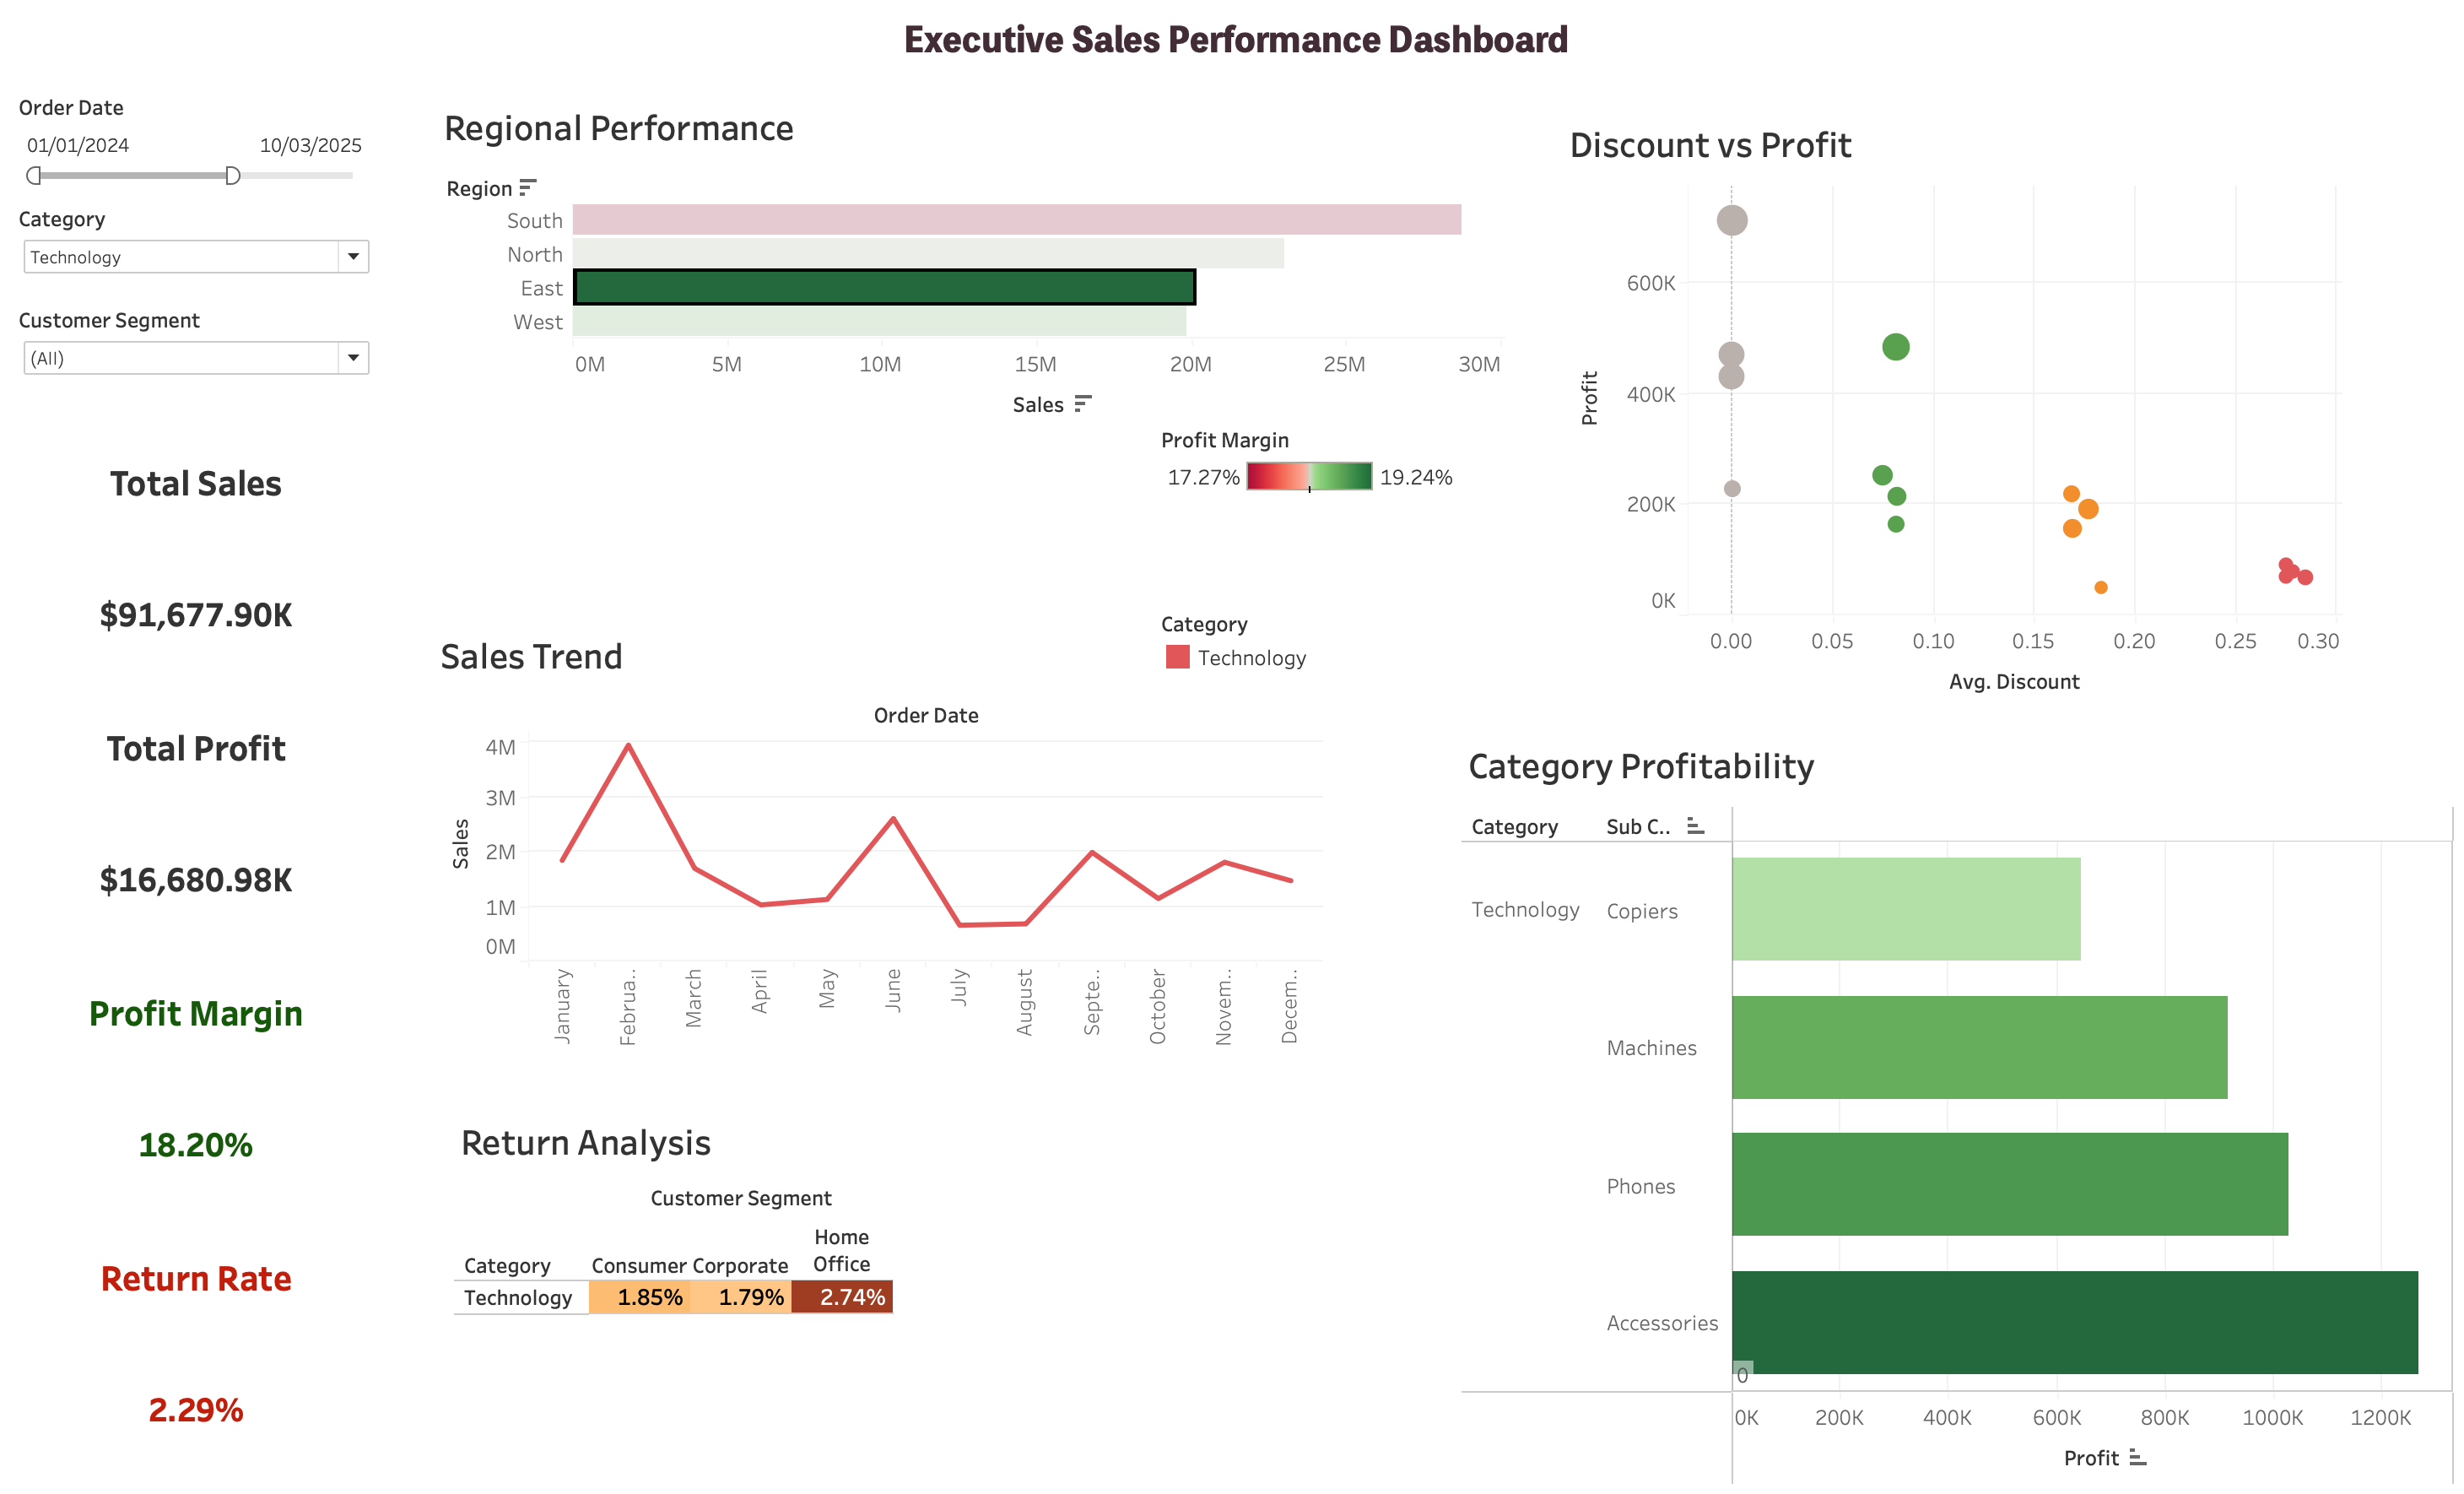

The dashboard page shown, as its layout file describes it:
{"tool":"tableau","page":{"name":"Executive Dashboard ","canvas":[1000,1000],"units":"permille","ordinal":0},"visuals":[{"type":"title","box":[5.4,9,989.1,36]},{"type":"filter","title":"Sales trend view","param":"[federated.0es24wj1n8u6ep0zlp9on0qtiqck].[none:order_date:qk]","box":[6.3,58.2,148.8,74.2]},{"type":"worksheet","title":"Regional performance view","mark":"Bar","rows":["region"],"cols":["sales"],"box":[177.7,64.7,430.3,274.3]},{"type":"worksheet","title":"Discount vs profit view","mark":"Circle","rows":["profit"],"cols":["discount"],"box":[631.5,76.3,314.2,395.9]},{"type":"filter","title":"Category profitability view","param":"[federated.0es24wj1n8u6ep0zlp9on0qtiqck].[none:category:nk]","box":[6.3,132.4,148.8,67.5]},{"type":"filter","title":"Return analysis view","param":"[federated.0es24wj1n8u6ep0zlp9on0qtiqck].[none:customer_segment:nk]","box":[6.3,199.9,148.8,97.9]},{"type":"legend","title":"Regional performance view","param":"[federated.0es24wj1n8u6ep0zlp9on0qtiqck].[usr:Calculation_6818774942461952:qk]","box":[469.3,284.6,121.1,68.6]},{"type":"worksheet","title":"Total sales","mark":"Automatic","box":[6.3,297.8,148.8,176.5]},{"type":"legend","title":"Sales trend view","param":"[federated.0es24wj1n8u6ep0zlp9on0qtiqck].[none:category:nk]","box":[469.3,407.5,96.1,103.5]},{"type":"worksheet","title":"Sales trend view","mark":"Line","rows":["sales"],"cols":["order_date"],"box":[176.4,417.9,358.3,282]},{"type":"worksheet","title":"Total profit","mark":"Automatic","box":[6.3,474.3,148.8,176.5]},{"type":"worksheet","title":"Category profitability view","mark":"Bar","rows":["category","sub_category"],"cols":["profit"],"box":[590.6,490.3,400,500.7]},{"type":"worksheet","title":"Profit margin","mark":"Automatic","box":[6.3,650.8,148.8,176.5]},{"type":"worksheet","title":"Return analysis view","mark":"Square","rows":["category"],"cols":["customer_segment"],"box":[184.2,741.3,328.4,236.7]},{"type":"worksheet","title":"Return rate","mark":"Automatic","box":[6.3,827.4,148.8,176.5]}]}

Visuals, with their boxes on the dashboard's canvas, which has no fixed pixel size, in thousandths of its width and height (x1, y1, x2, y2). These are canvas units, not pixel positions in the 2464x1494 screenshot, which may show the page scaled, cropped or inside an application window:
title: select_region(5, 9, 994, 45)
"Sales trend view" filter: select_region(6, 58, 155, 132)
"Regional performance view" worksheet (Bar marks): select_region(178, 65, 608, 339)
"Discount vs profit view" worksheet (Circle marks): select_region(632, 76, 946, 472)
"Category profitability view" filter: select_region(6, 132, 155, 200)
"Return analysis view" filter: select_region(6, 200, 155, 298)
"Regional performance view" legend: select_region(469, 285, 590, 353)
"Total sales" worksheet: select_region(6, 298, 155, 474)
"Sales trend view" legend: select_region(469, 408, 565, 511)
"Sales trend view" worksheet (Line marks): select_region(176, 418, 535, 700)
"Total profit" worksheet: select_region(6, 474, 155, 651)
"Category profitability view" worksheet (Bar marks): select_region(591, 490, 991, 991)
"Profit margin" worksheet: select_region(6, 651, 155, 827)
"Return analysis view" worksheet (Square marks): select_region(184, 741, 513, 978)
"Return rate" worksheet: select_region(6, 827, 155, 1004)
